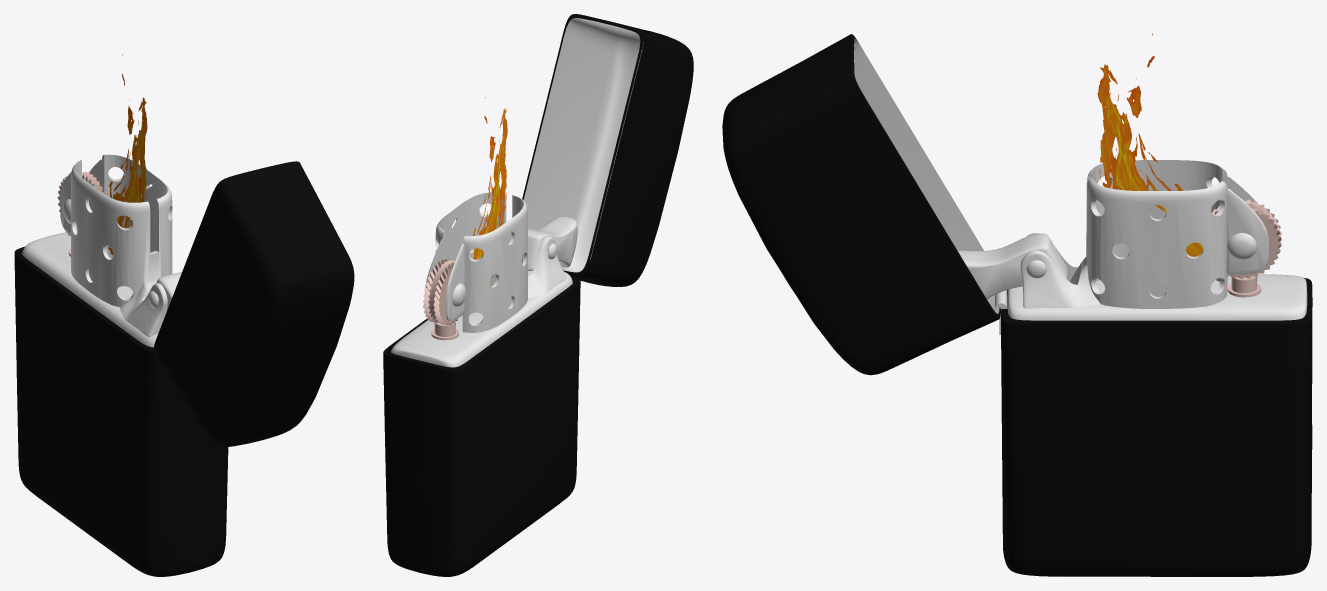
The model's file is Lighter.prefab.fbx.
3 renders of one model, left to right at view 1: azimuth 30°, elevation 25°; view 2: azimuth 150°, elevation 25°; view 3: azimuth 270°, elevation 25°, orthographic. The views are drawn at different scales.
Visible parts, largest first — view 1: Cube; view 2: Cube; view 3: Cube.
Boxes of the visible parts, x1,y1,x2,y2 form: Cube: (14, 54, 354, 576); Cube: (383, 14, 693, 576); Cube: (722, 33, 1312, 576).
Size of the model in its own units: 1.41 by 7.67 by 7.53.
